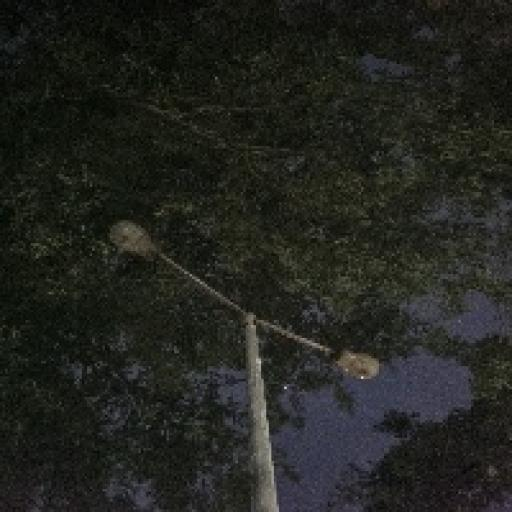Not Working: (95, 210, 172, 262), (316, 339, 386, 391)
